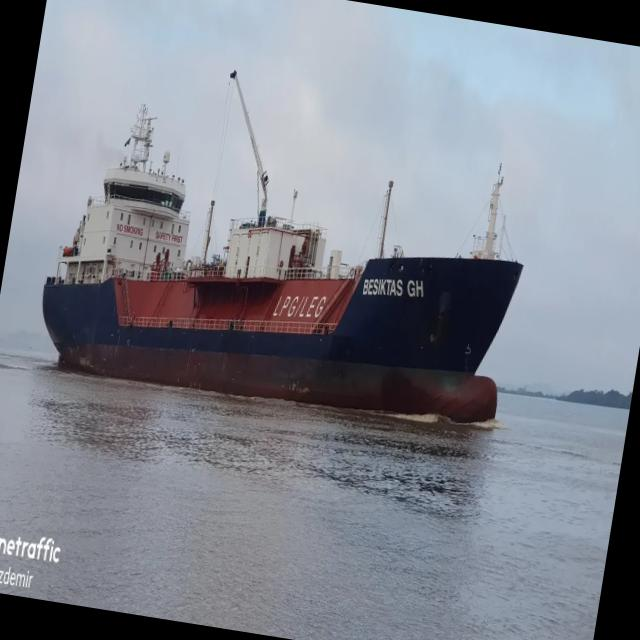Tanker: (43, 72, 522, 422)
